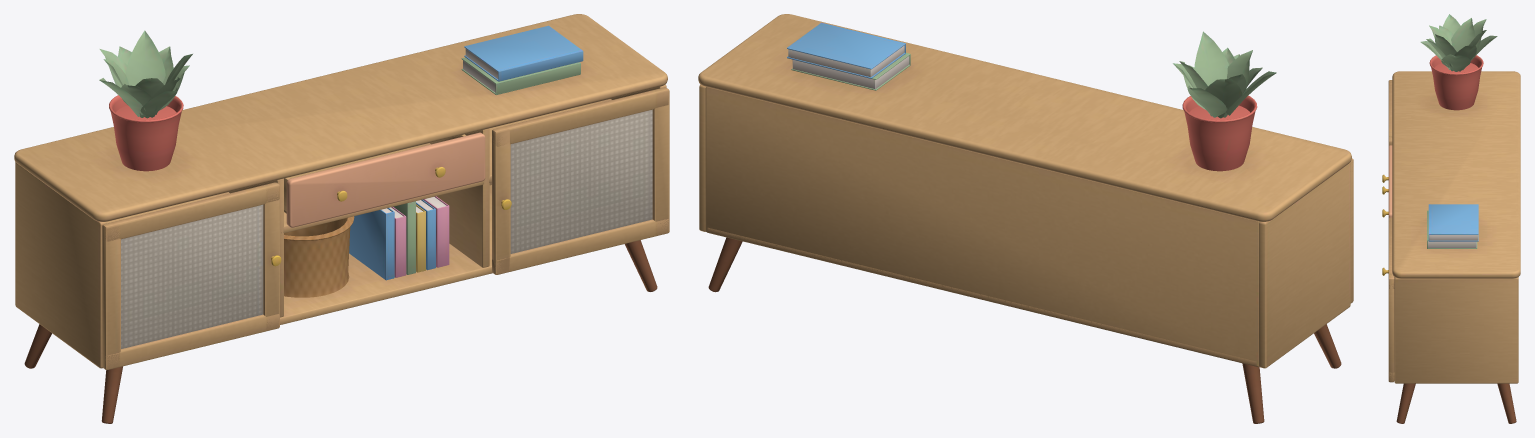
The model's file is tv-stand.glb.
3 views of the same model, side by side, from view 1: azimuth 30°, elevation 25°; view 2: azimuth 150°, elevation 25°; view 3: azimuth 270°, elevation 25° (orthographic). The views are drawn at different scales.
Parts seen in each view (by area): view 1: tv-stand_body, tv-stand_drawer; view 2: tv-stand_body; view 3: tv-stand_body, tv-stand_drawer.
Boxes of the visible parts, <box> form: tv-stand_body: <box>14,14,669,423</box>; tv-stand_drawer: <box>284,132,485,227</box>; tv-stand_body: <box>698,14,1353,423</box>; tv-stand_body: <box>1382,14,1520,423</box>; tv-stand_drawer: <box>1382,145,1392,217</box>.
Size of the model in its own units: 1.62 by 0.8784 by 0.4686.
2 materials, 2 textured.
